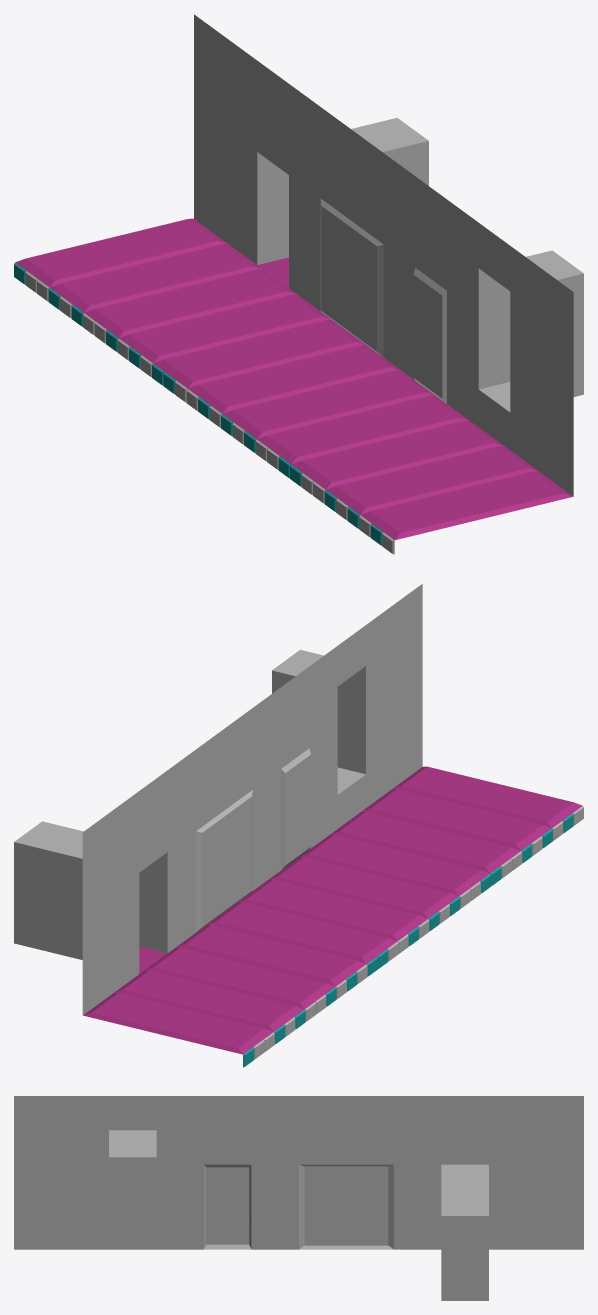
File: road2.fbx
3 views of the same model, one above another, from view 1: azimuth 30°, elevation 25°; view 2: azimuth 150°, elevation 25°; view 3: azimuth 270°, elevation 25° (orthographic). The views are drawn at different scales.
Visible parts, largest first — view 1: road.003; view 2: road.003; view 3: road.003.
Part boxes in pixels (box(x1,y1,x2,y2)): road.003: box(14, 14, 583, 554); road.003: box(14, 584, 583, 1067); road.003: box(14, 1096, 583, 1300).
Size of the model in its own units: 1185 by 773 by 2429.
